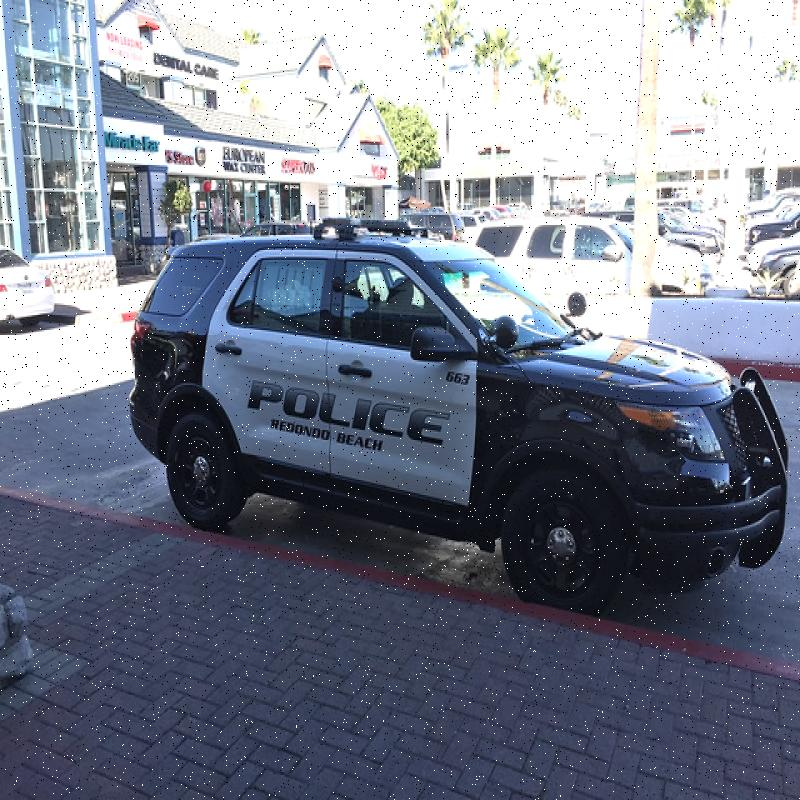AmbulanceSiren: (310, 205, 424, 244)
